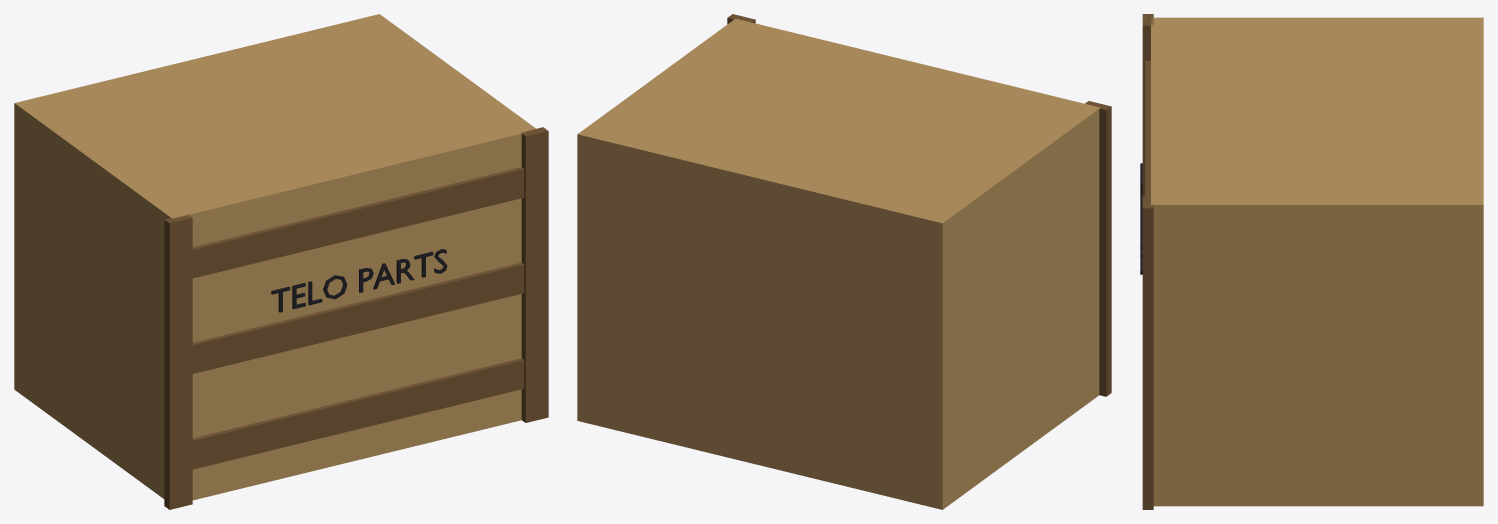
The model's file is site.parts-crate.glb.
3 views of the same model, side by side, from view 1: azimuth 30°, elevation 25°; view 2: azimuth 150°, elevation 25°; view 3: azimuth 270°, elevation 25° (orthographic). The views are drawn at different scales.
Visible parts, largest first — view 1: crate-body, crate-slat0, crate-slat2, crate-slat1, crate-post-1, crate-post1, crate-stencil; view 2: crate-body, crate-post-1; view 3: crate-body, crate-post1, crate-post-1, crate-slat2.
Part boxes in pixels (x1=…): crate-body: x1=14, y1=14, x2=535, y2=500; crate-slat0: x1=192, y1=358, x2=524, y2=469; crate-slat2: x1=192, y1=167, x2=524, y2=278; crate-slat1: x1=192, y1=262, x2=524, y2=373; crate-post-1: x1=164, y1=214, x2=192, y2=509; crate-post1: x1=521, y1=127, x2=548, y2=422; crate-stencil: x1=271, y1=249, x2=447, y2=312; crate-body: x1=577, y1=18, x2=1099, y2=509; crate-post-1: x1=1085, y1=101, x2=1111, y2=396; crate-body: x1=1151, y1=17, x2=1483, y2=506; crate-post1: x1=1142, y1=196, x2=1153, y2=509; crate-post-1: x1=1142, y1=14, x2=1153, y2=196; crate-slat2: x1=1145, y1=61, x2=1150, y2=196.
Bounding box in the file's own units: 0.83 × 0.6 × 0.619.
